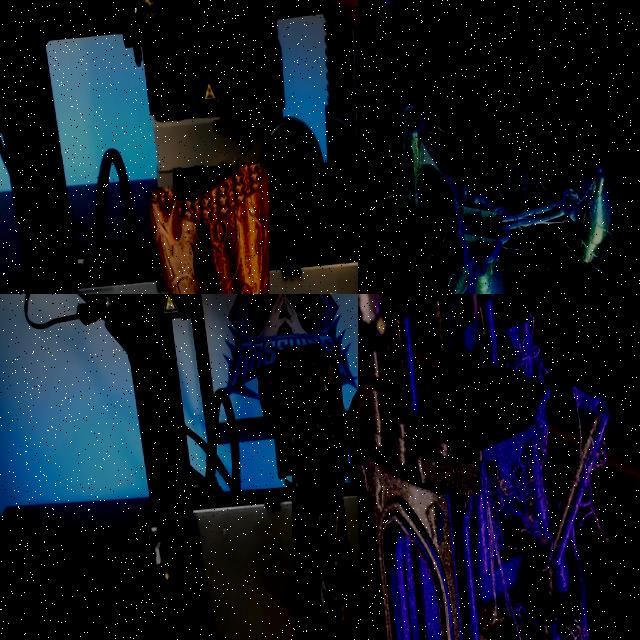spaghetti: (467, 435, 579, 640), (570, 440, 632, 554), (496, 296, 550, 382)
